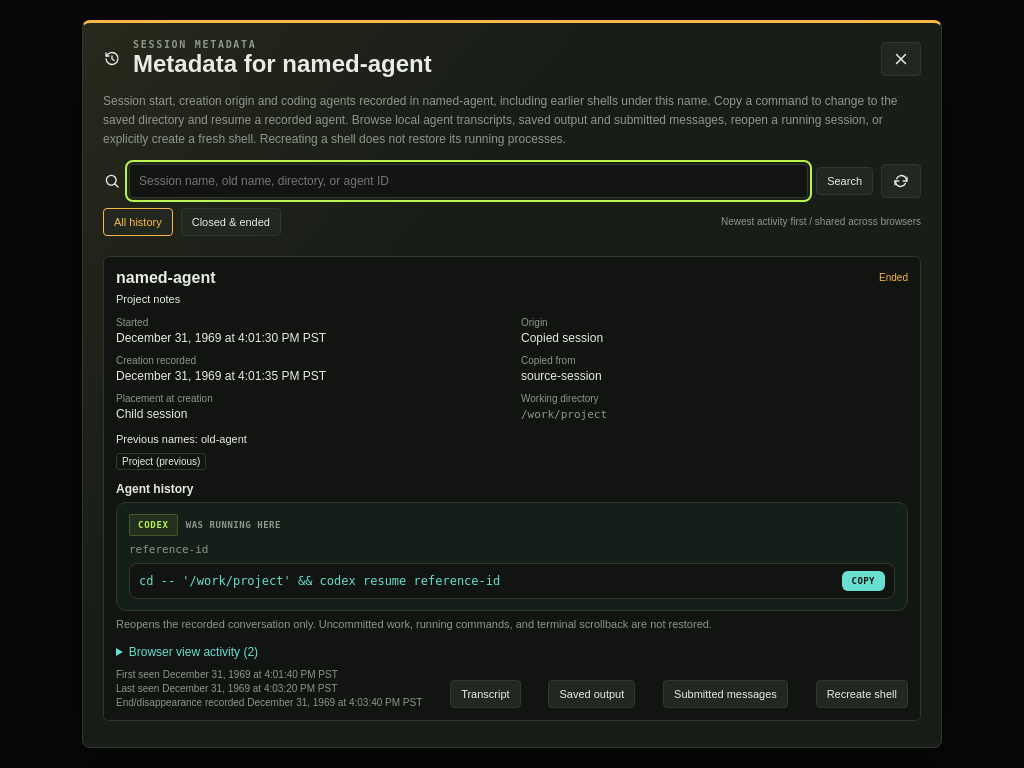
Test case: SessionHistoryDialog › shows native start, copy lineage and browser activity alongside agent history
Expected: the text "source-session" is shown, top-left (521, 369), bottom-right (602, 383)
Expected: the dialog "Metadata for named-agent" shows "Started", top-left (116, 317), bottom-right (148, 328)
Click the heading "Browser view activity (2)": {"x": 193, "y": 652} top-left (129, 644), bottom-right (258, 658)
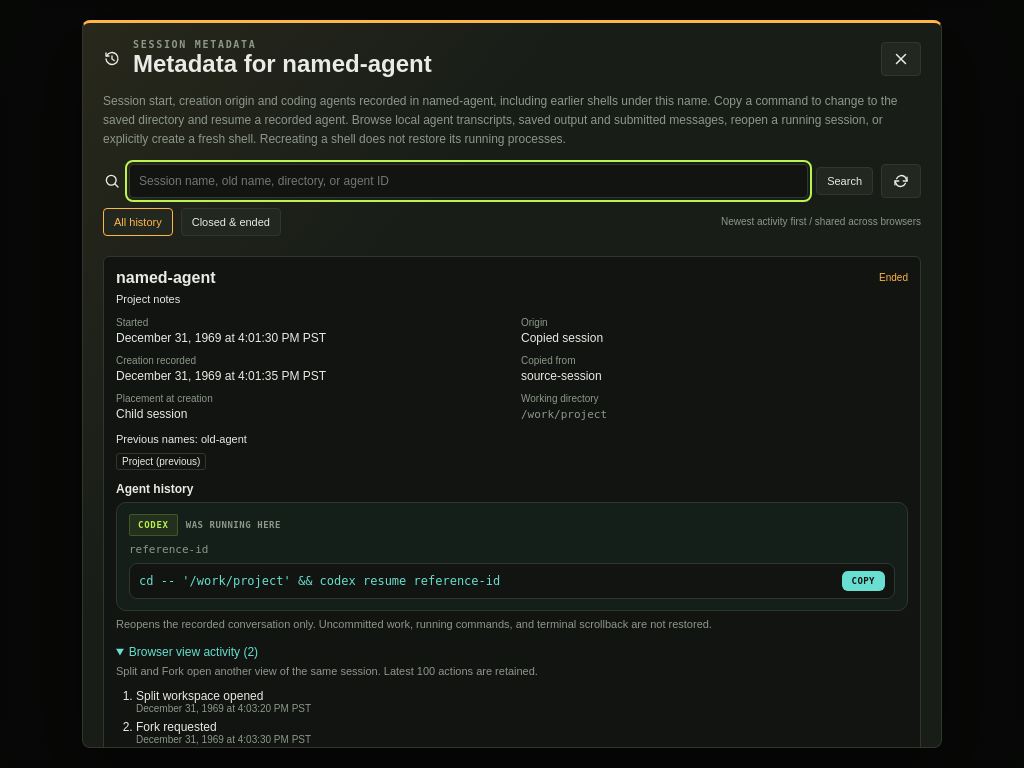
Expected: the text "Split workspace opened" is shown, top-left (136, 688), bottom-right (263, 702)
Expected: the text "Fork requested" is shown, top-left (136, 720), bottom-right (217, 734)
